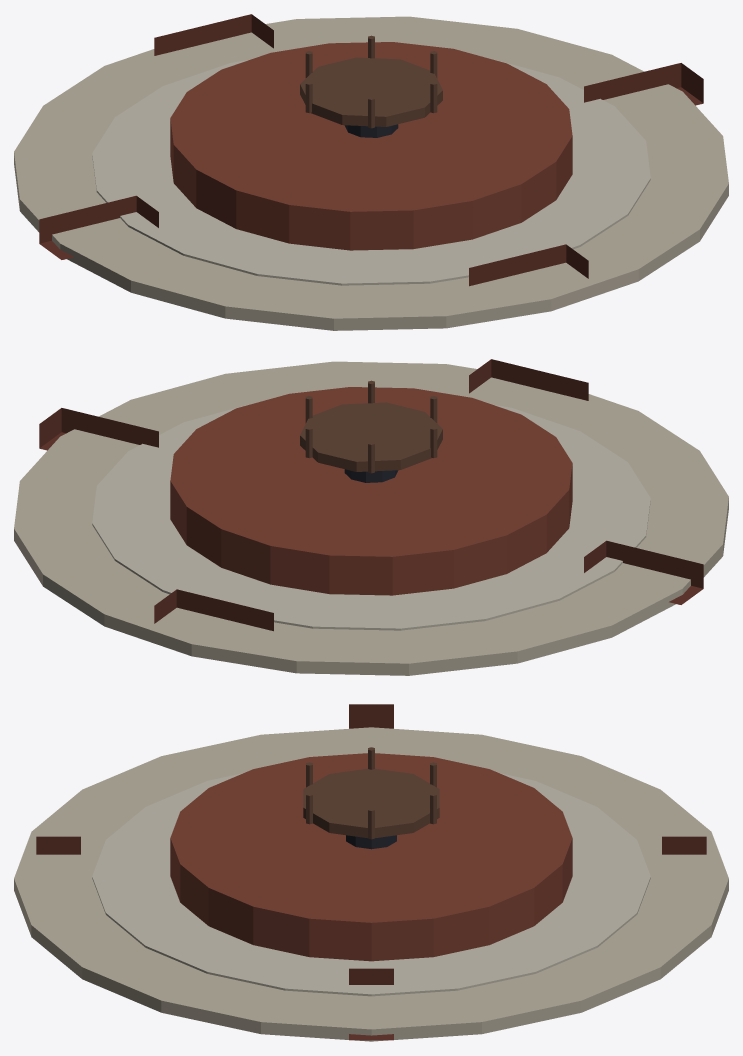
Rendered from fountain-high.glb.
3 renders of one model, top to bottom at view 1: azimuth 30°, elevation 25°; view 2: azimuth 150°, elevation 25°; view 3: azimuth 270°, elevation 25°, orthographic.
Size of the model in its own units: 33 by 5.5 by 32.
